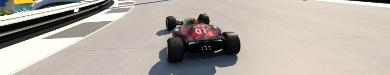Car: (164, 13, 240, 62)
obstacles-Borders: (0, 0, 111, 53)
